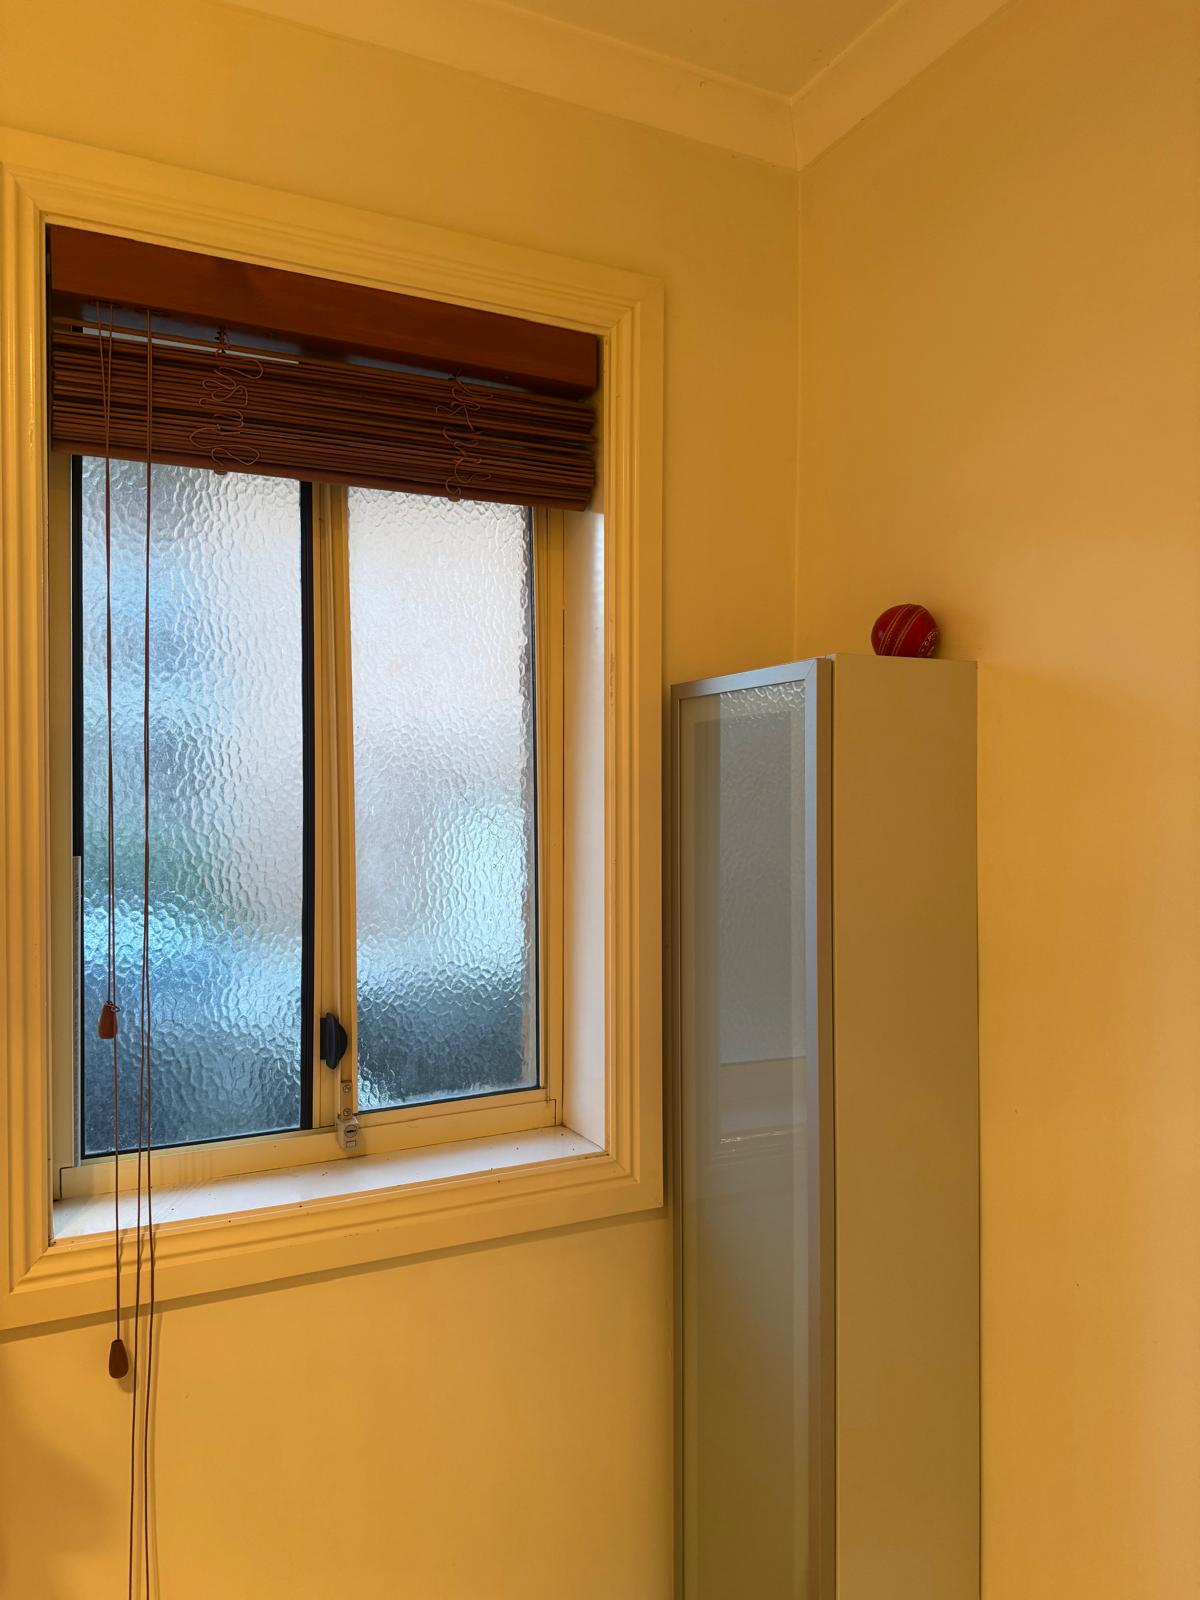Red_Ball: (861, 598, 943, 656)
